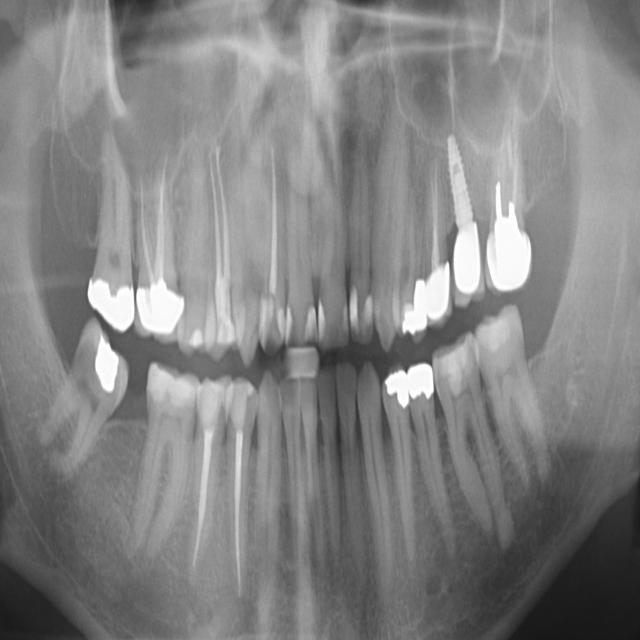infected-teeth: (134, 140, 183, 345), (187, 367, 230, 583), (488, 94, 530, 309), (224, 380, 256, 617), (206, 128, 237, 361), (263, 127, 286, 354), (427, 151, 451, 336)
